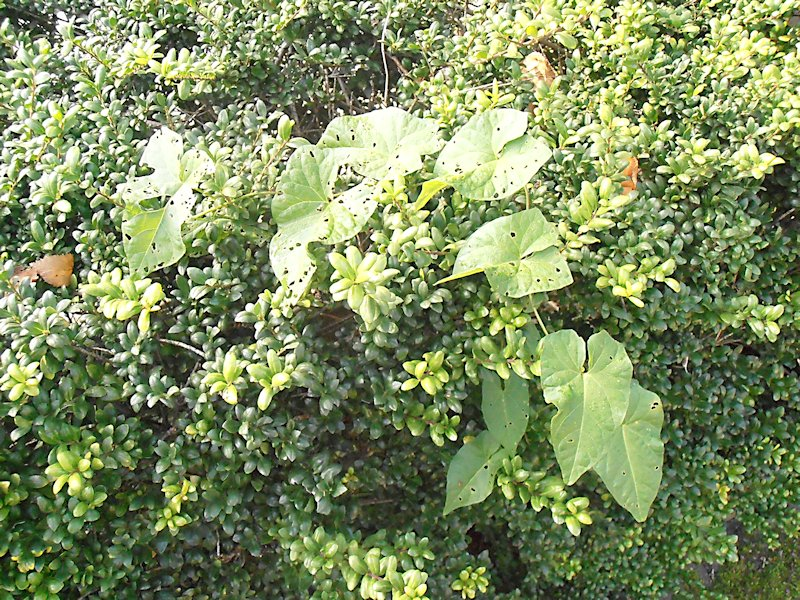haagwinde: (256, 95, 440, 308), (528, 325, 681, 552), (100, 107, 220, 305), (430, 337, 535, 523), (448, 210, 584, 312), (439, 83, 558, 199)
